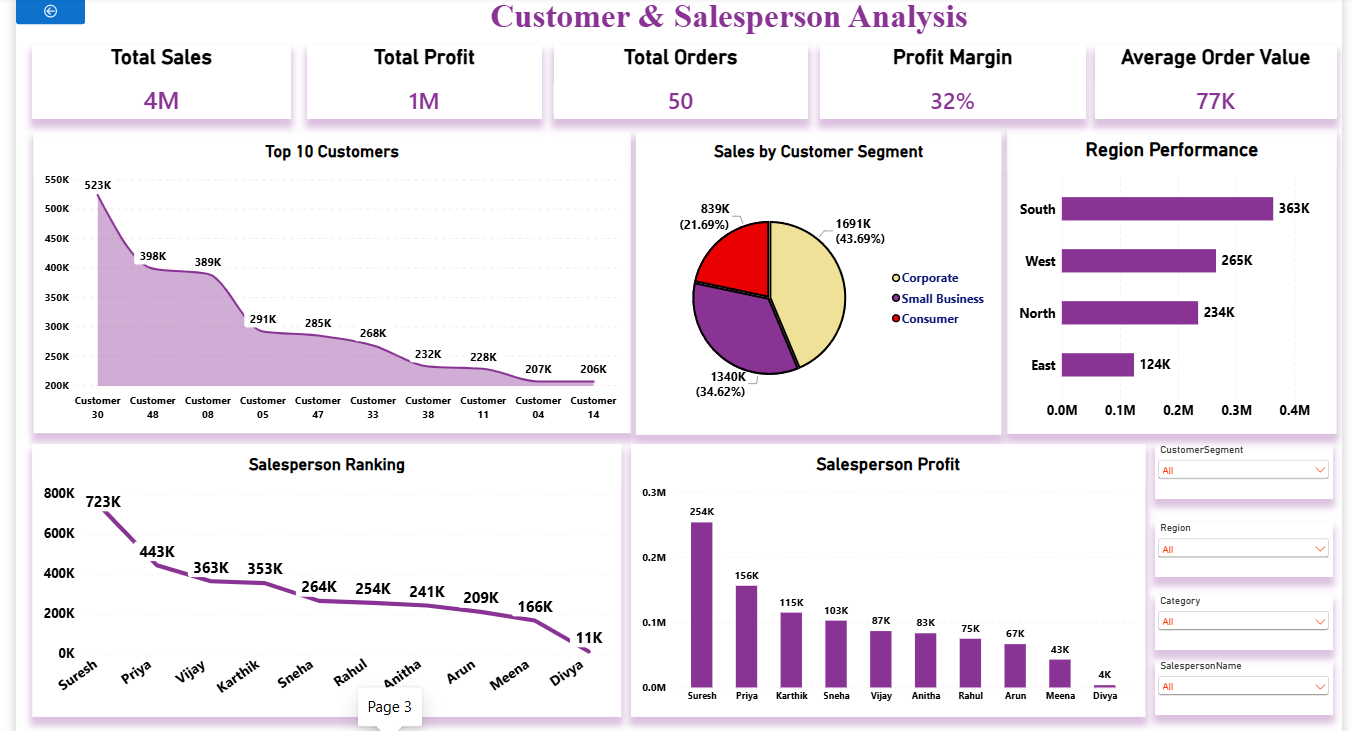

The dashboard page shown, as its layout file describes it:
{"tool":"powerbi","page":{"name":"Page 3","canvas":[1920,1080],"ordinal":2},"visuals":[{"type":"textbox","box":[142,257,280,150],"z":0},{"type":"textbox","box":[0,407,644,206],"z":1000},{"type":"textbox","box":[0,0,1920.5,77],"z":2000},{"type":"areaChart","title":"Top 10 Customers","fields":{"Category":["DimCustomer.CustomerName"],"Y":["FactSales.Total Sales"]},"box":[24.7,195.5,864.5,436.4],"z":3000},{"type":"clusteredBarChart","title":"Region Performance","fields":{"Category":["DimSalesperson.Region"],"Y":["FactSales.Total Profit"]},"box":[1434.4,190.8,476.9,442.1],"z":4000},{"type":"pieChart","title":"Sales by Customer Segment","fields":{"Category":["DimCustomer.CustomerSegment"],"Y":["FactSales.Total Sales"]},"box":[897.4,195.5,529,438.4],"z":5000},{"type":"columnChart","title":"Salesperson Profit","fields":{"Category":["DimSalesperson.SalespersonName"],"Y":["FactSales.Total Profit"]},"box":[889.6,647.5,744.7,394.4],"z":6000},{"type":"lineChart","title":"Salesperson Ranking","fields":{"Category":["DimSalesperson.SalespersonName"],"Y":["FactSales.Total Sales"]},"box":[23.8,647.5,852.9,394.4],"z":7000},{"type":"cardVisual","title":"Total Sales","fields":{"Data":["FactSales.Total Sales"]},"box":[23.8,67.9,374.2,108.2],"z":8000},{"type":"cardVisual","title":"Total Profit","fields":{"Data":["FactSales.Total Profit"]},"box":[421.9,67.9,339.3,108.2],"z":9000},{"type":"cardVisual","title":"Total Orders","fields":{"Data":["FactSales.Total Orders"]},"box":[777.7,67.9,368.7,108.2],"z":10000},{"type":"cardVisual","title":"Profit Margin","fields":{"Data":["FactSales.Profit Margin %"]},"box":[1162.9,67.9,385.2,108.2],"z":11000},{"type":"cardVisual","title":"Average Order Value","fields":{"Data":["FactSales.Average Order Value"]},"box":[1560.9,67.9,350.3,108.2],"z":12000},{"type":"slicer","fields":{"Values":["DimCustomer.CustomerSegment"]},"box":[1649.4,646,257.3,80.3],"z":13000},{"type":"slicer","fields":{"Values":["DimSalesperson.Region"]},"box":[1649.1,759.8,257.3,80.3],"z":14000},{"type":"slicer","fields":{"Values":["DimProduct.Category"]},"box":[1649.1,864.8,257.3,80.3],"z":15000},{"type":"slicer","fields":{"Values":["DimSalesperson.SalespersonName"]},"box":[1649.1,959.5,257.3,80.3],"z":16000},{"type":"actionButton","box":[0,0,100,40],"z":17000}]}

Visuals, with their boxes on the page's 1920x1080 design canvas (x1, y1, x2, y2). These are canvas units, not pixel positions in the 1352x731 screenshot, which may show the page scaled, cropped or inside an application window:
textbox: box=[142, 257, 422, 407]
textbox: box=[0, 407, 644, 613]
textbox: box=[0, 0, 1920, 77]
"Top 10 Customers" areaChart: box=[25, 196, 889, 632]
"Region Performance" clusteredBarChart: box=[1434, 191, 1911, 633]
"Sales by Customer Segment" pieChart: box=[897, 196, 1426, 634]
"Salesperson Profit" columnChart: box=[890, 648, 1634, 1042]
"Salesperson Ranking" lineChart: box=[24, 648, 877, 1042]
"Total Sales" cardVisual: box=[24, 68, 398, 176]
"Total Profit" cardVisual: box=[422, 68, 761, 176]
"Total Orders" cardVisual: box=[778, 68, 1146, 176]
"Profit Margin" cardVisual: box=[1163, 68, 1548, 176]
"Average Order Value" cardVisual: box=[1561, 68, 1911, 176]
slicer - DimCustomer.CustomerSegment: box=[1649, 646, 1907, 726]
slicer - DimSalesperson.Region: box=[1649, 760, 1906, 840]
slicer - DimProduct.Category: box=[1649, 865, 1906, 945]
slicer - DimSalesperson.SalespersonName: box=[1649, 960, 1906, 1040]
actionButton: box=[0, 0, 100, 40]
